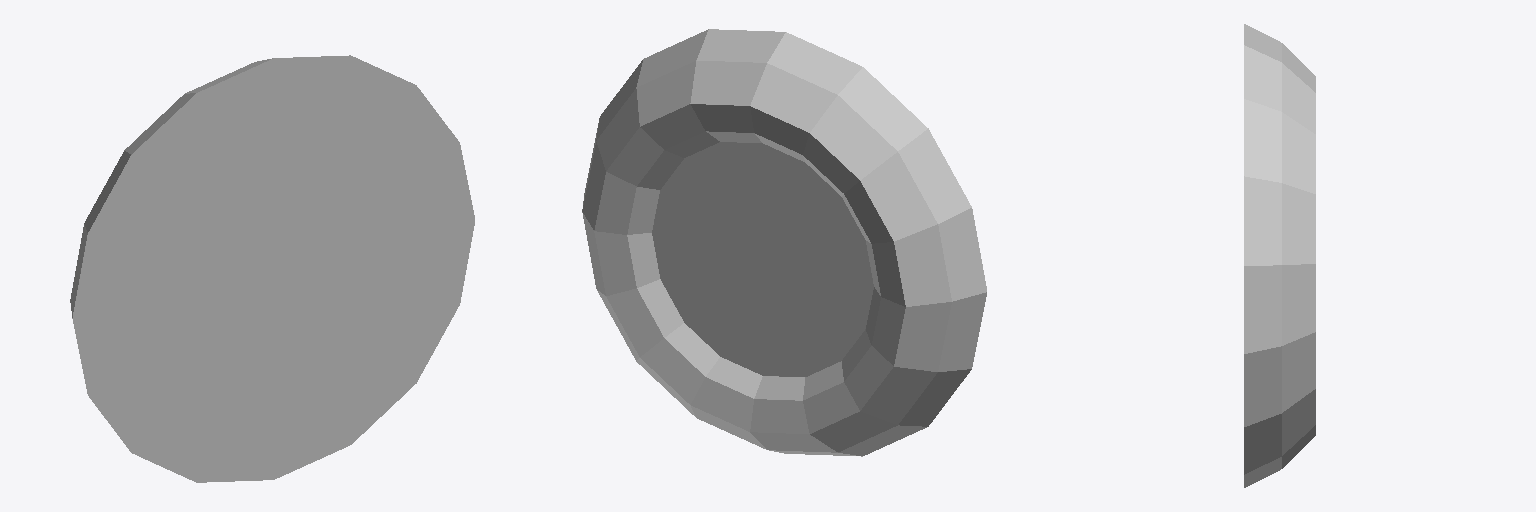
File: water_hazard_rim.obj
3 views of the same model, side by side, from view 1: azimuth 30°, elevation 25°; view 2: azimuth 150°, elevation 25°; view 3: azimuth 270°, elevation 25° (orthographic).
Visible parts, largest first — view 1: Torus; view 2: Torus, Torus.002; view 3: Torus.
Part boxes in pixels (left/top/right/bottom): Torus: left=70, top=55, right=474, bottom=482; Torus: left=582, top=29, right=986, bottom=456; Torus.002: left=652, top=142, right=873, bottom=376; Torus: left=1244, top=24, right=1315, bottom=487.
Size of the model in its own units: 2.78 by 2.78 by 0.4284.